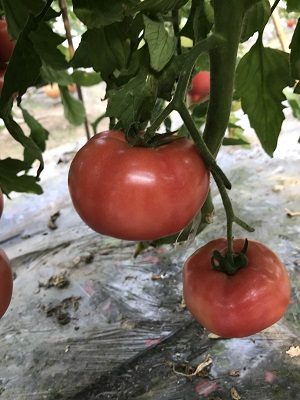mature-tomato: (68, 127, 209, 241), (183, 237, 291, 337)
